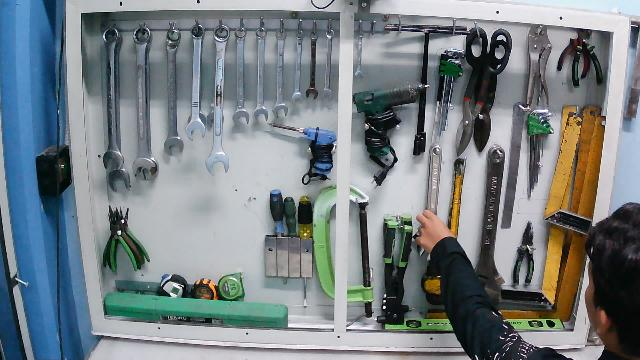kunci_inggris: (414, 143, 445, 260)
